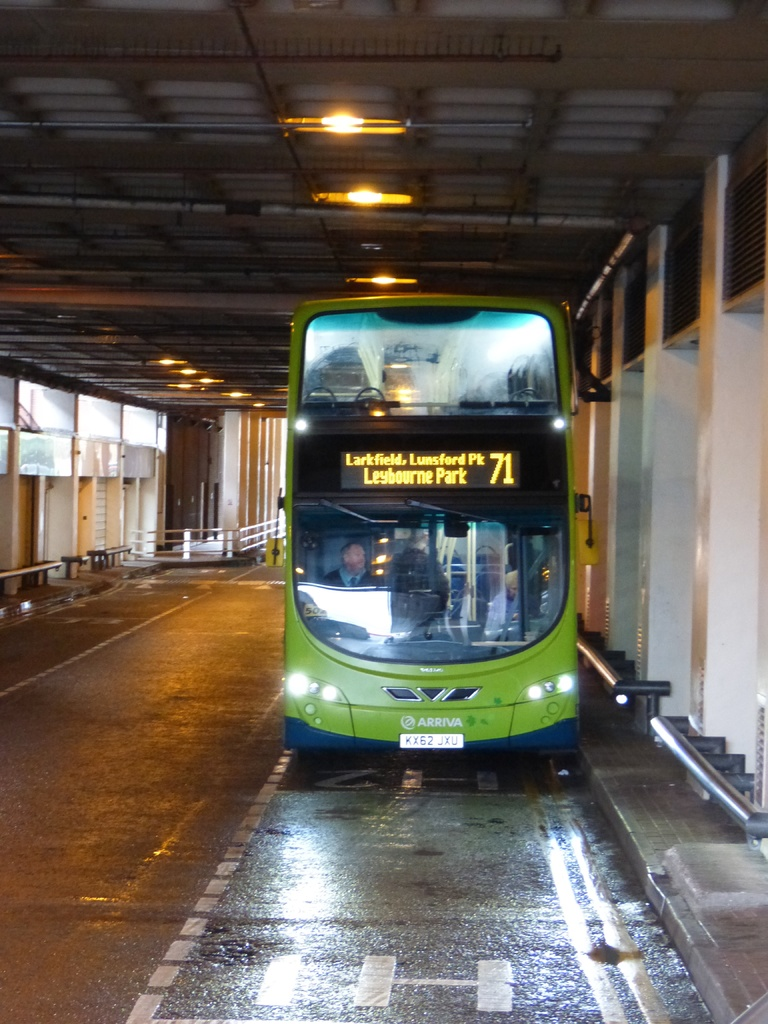Bus: (276, 287, 603, 763)
